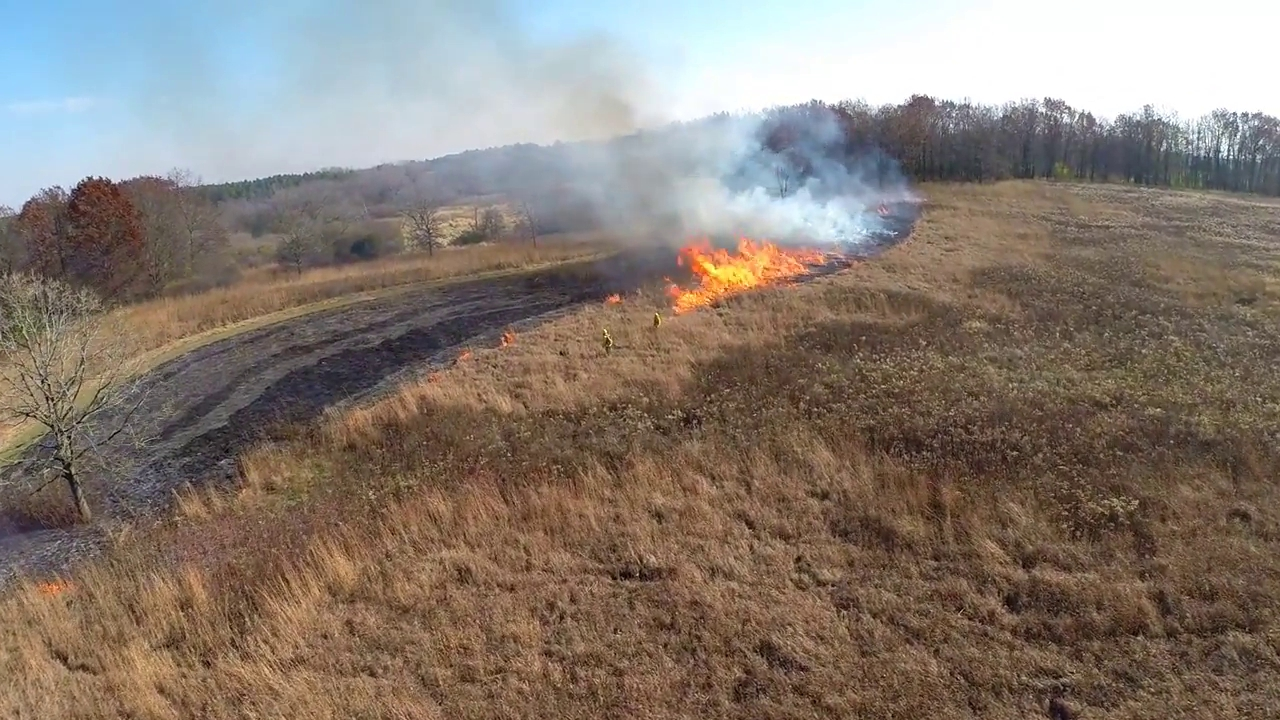forest_fire: (666, 238, 825, 312), (606, 293, 622, 304)
